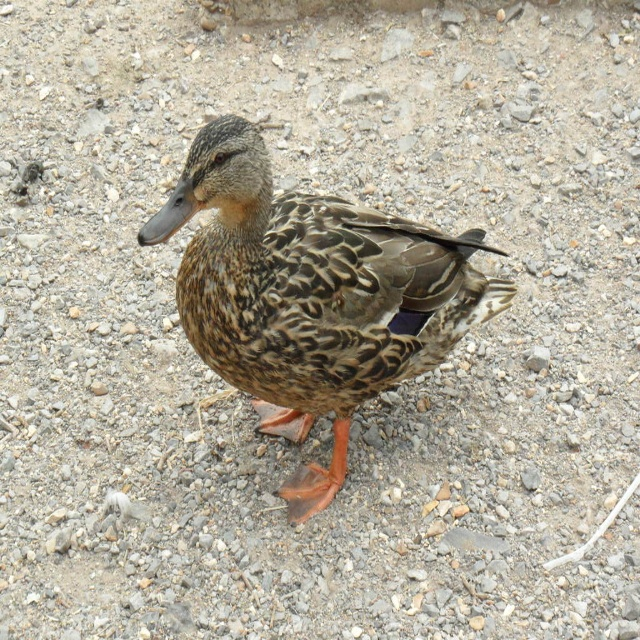Duck: (132, 119, 523, 523)
